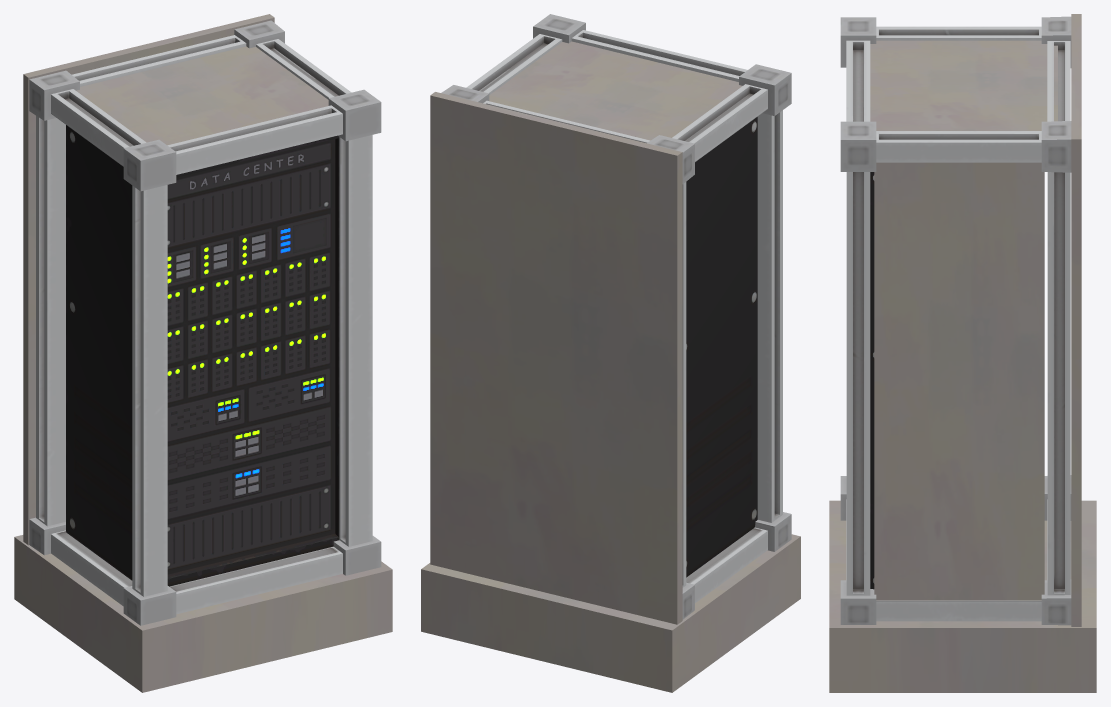
The model's file is Pfb_Server__5.fbx.
The picture shows the model from 3 angles, left to right: view 1: azimuth 30°, elevation 25°; view 2: azimuth 150°, elevation 25°; view 3: azimuth 270°, elevation 25°; orthographic projection. The views are drawn at different scales.
Visible parts, largest first — view 1: OfficeServer01B, Mat_SteelFrame_01 7, Mat_Tile_Color_07; view 2: Mat_Tile_Color_07, OfficeServer01B, Mat_SteelFrame_01 7; view 3: Mat_Tile_Color_07, Mat_SteelFrame_01 7, OfficeServer01B.
Boxes of the visible parts, x1,y1,x2,y2 form: OfficeServer01B: (66,125,339,586); Mat_SteelFrame_01 7: (29,20,381,625); Mat_Tile_Color_07: (14,14,392,692); Mat_Tile_Color_07: (421,41,800,692); OfficeServer01B: (686,117,757,577); Mat_SteelFrame_01 7: (441,14,791,619); Mat_Tile_Color_07: (829,14,1096,692); Mat_SteelFrame_01 7: (840,16,1071,625); OfficeServer01B: (870,172,874,589).
Bounding box in the file's own units: 1.23 × 2.49 × 1.09.
3 materials, 3 textured.
